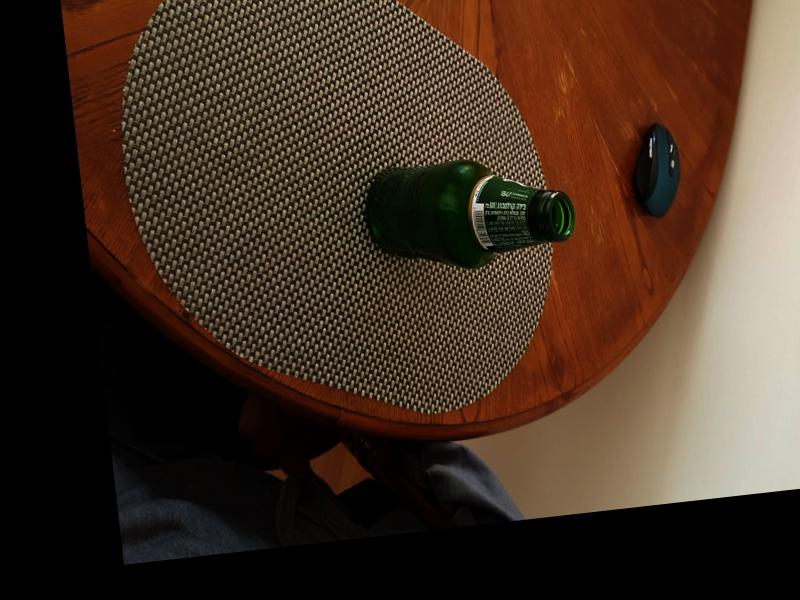Beer: (360, 143, 580, 283)
